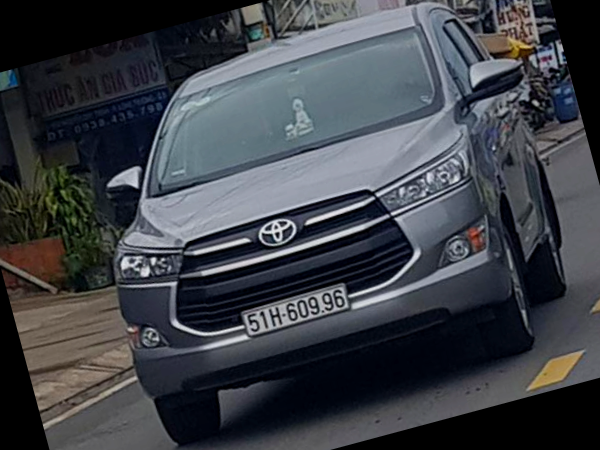lisence: (242, 283, 350, 338)
